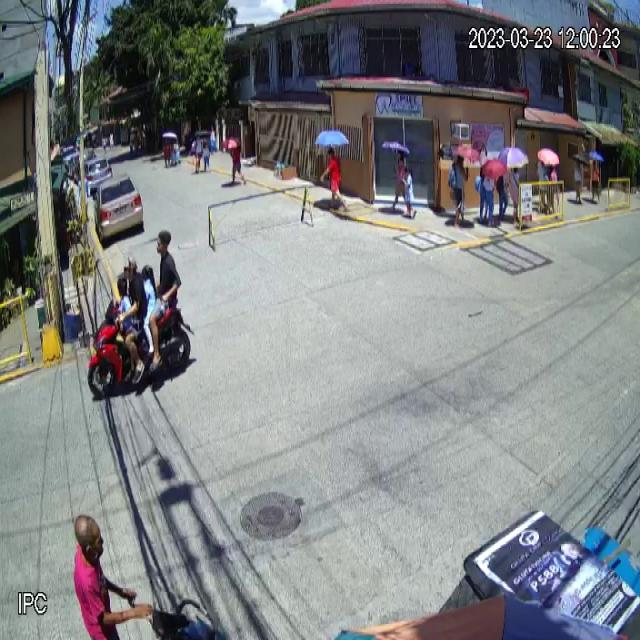Motorcycle: (86, 297, 195, 396)
